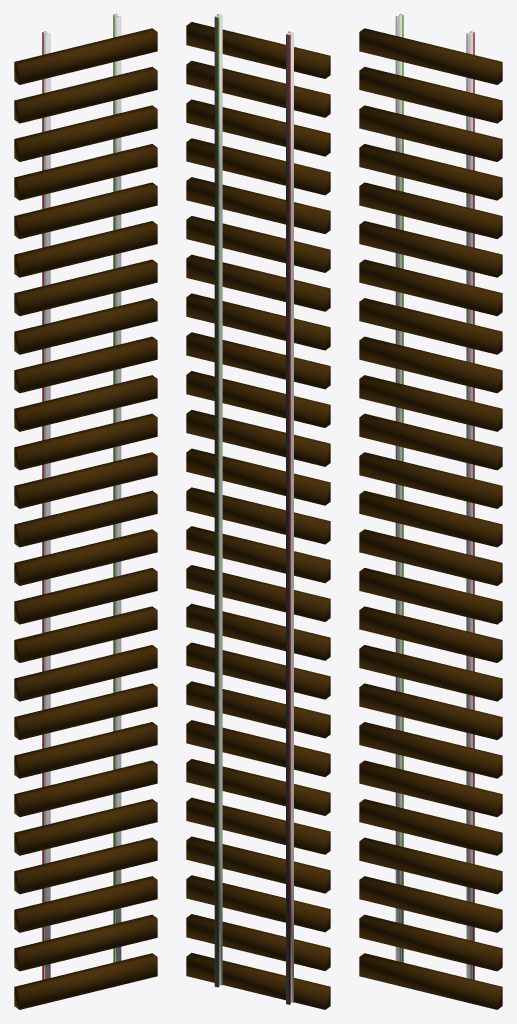
File: Rails_20m.fbx
The picture shows the model from 3 angles, left to right: view 1: azimuth 30°, elevation 25°; view 2: azimuth 150°, elevation 25°; view 3: azimuth 330°, elevation 25°; orthographic projection.
Visible parts, largest first — view 1: LP_Rails_20m; view 2: LP_Rails_20m; view 3: LP_Rails_20m.
Boxes of the visible parts, box(x1,y1,x2,y2) form: LP_Rails_20m: box(14, 14, 157, 1009); LP_Rails_20m: box(186, 14, 330, 1009); LP_Rails_20m: box(359, 14, 502, 1009).
Size of the model in its own units: 3 by 20 by 0.34.
